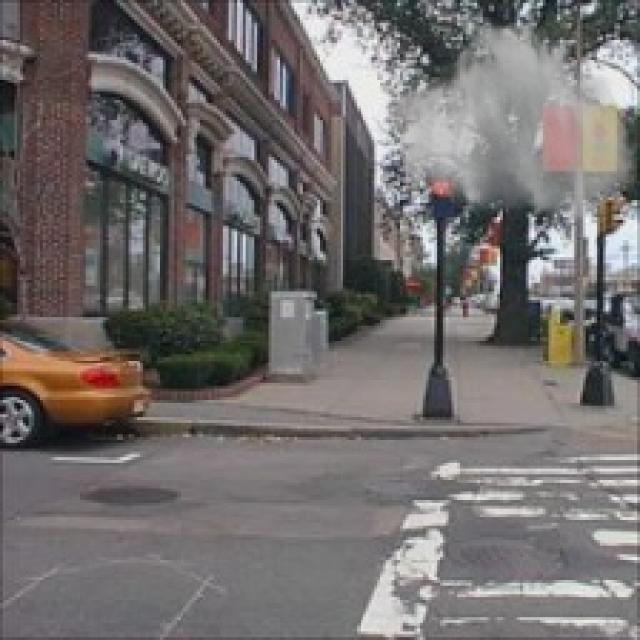smoke: (383, 12, 637, 228)
